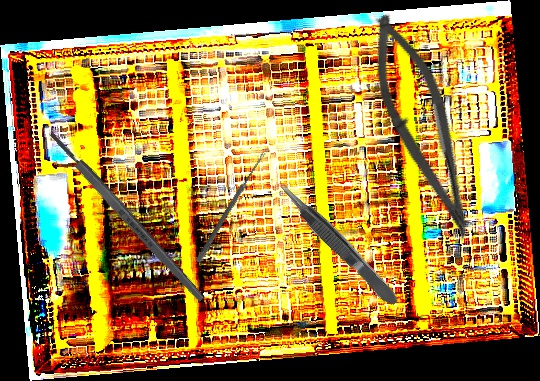Micro Scissor: (350, 6, 500, 248)
Scalpel Handle: (46, 128, 207, 305)
Surgical Spoon: (195, 150, 267, 264)
Tissue Forceps: (273, 176, 402, 312)
